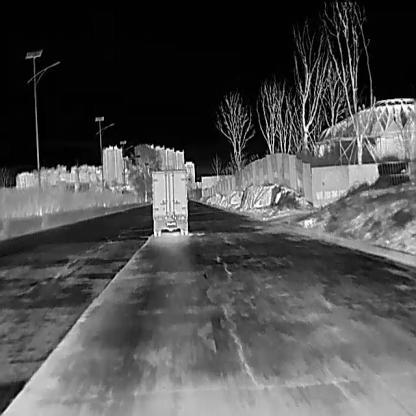car: (151, 168, 188, 236)
